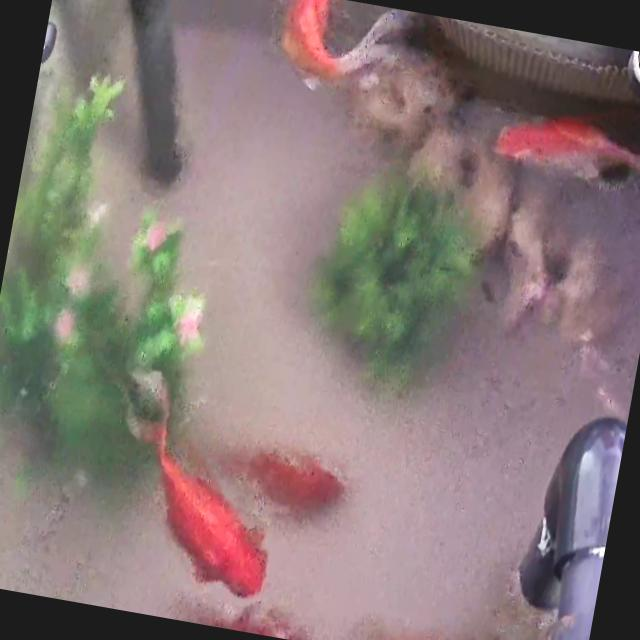fish: (101, 376, 293, 599), (284, 0, 425, 103), (492, 104, 640, 189), (216, 438, 349, 521), (185, 591, 314, 640), (374, 621, 484, 640)
